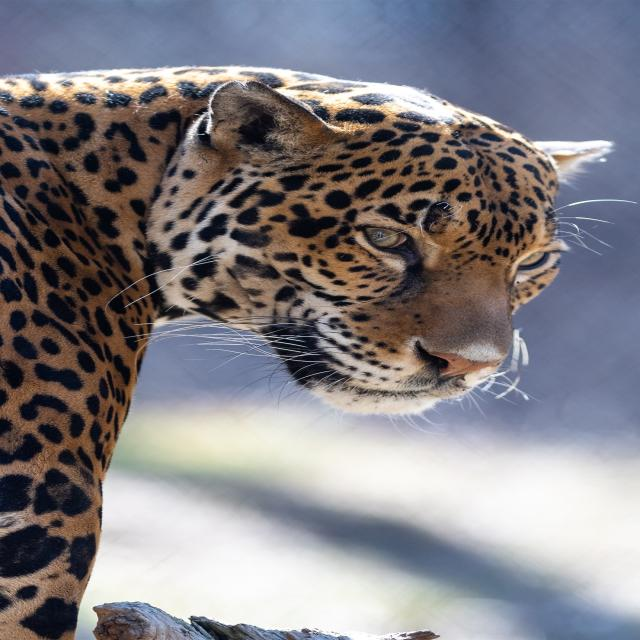Jaguar: (0, 62, 618, 640)
